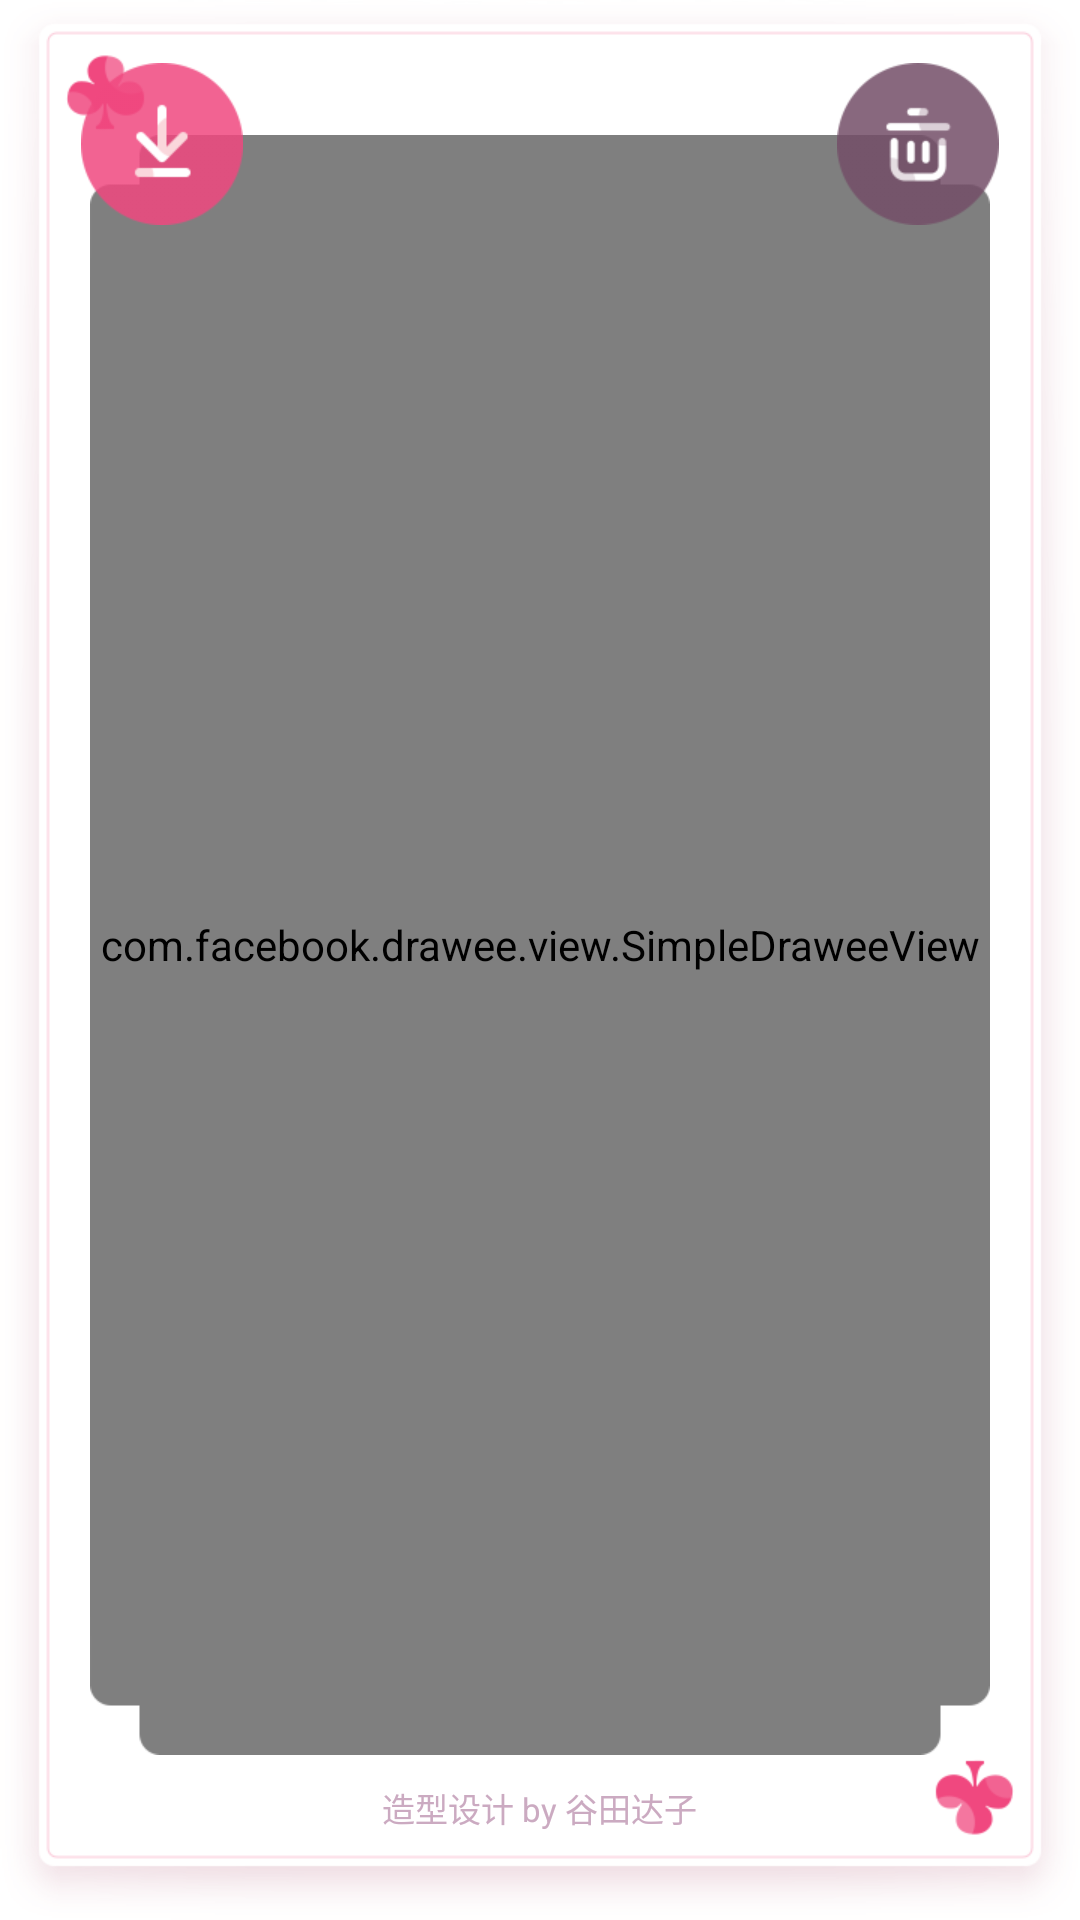

Point at icon controls on the screen. Image size 1080px x 1920px, points as (x,y).
daily cos card discard: (918,144)
